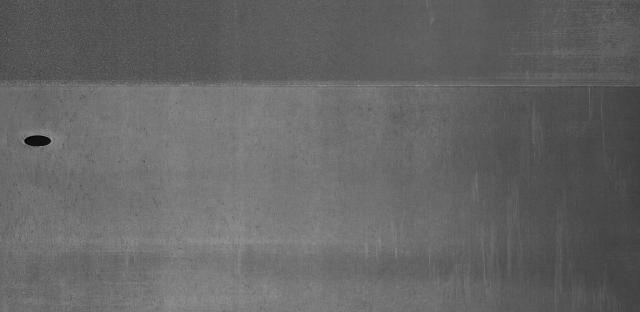punching_hole: (18, 128, 57, 152)
welding_line: (1, 78, 640, 99)
